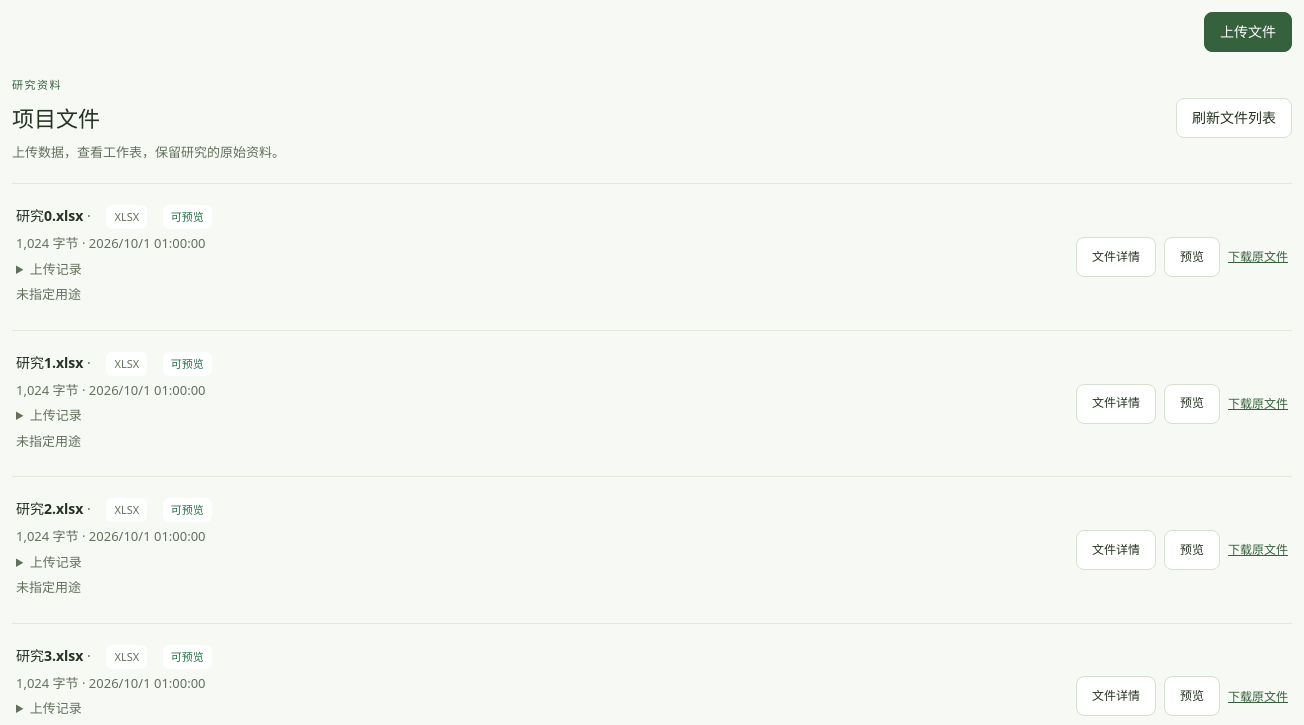
Test: purpose conflict preserves draft and reread adopts current revision before saving
This screenshot has width=1304, height=725.
Click the 1st button "文件详情": {"x": 1116, "y": 257} [1076,237,1156,277]
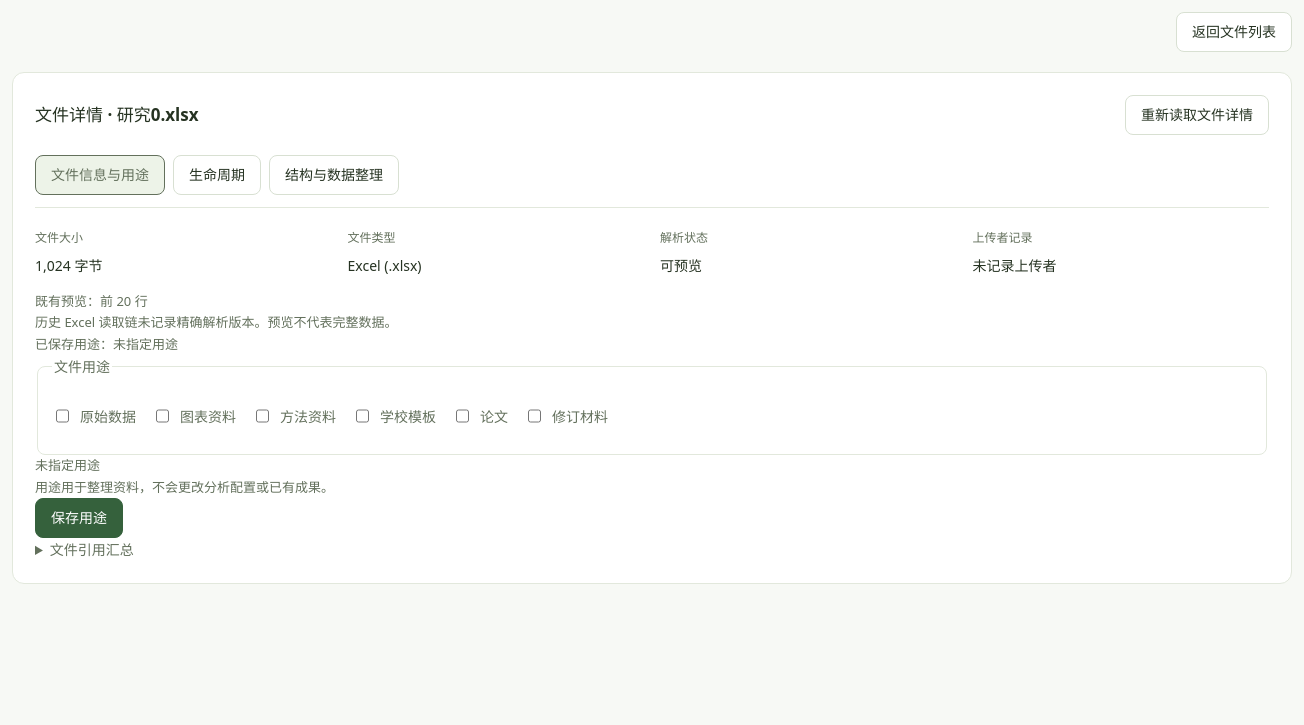
Click the checkbox labelled "原始数据": {"x": 62, "y": 416} [56,395,69,437]
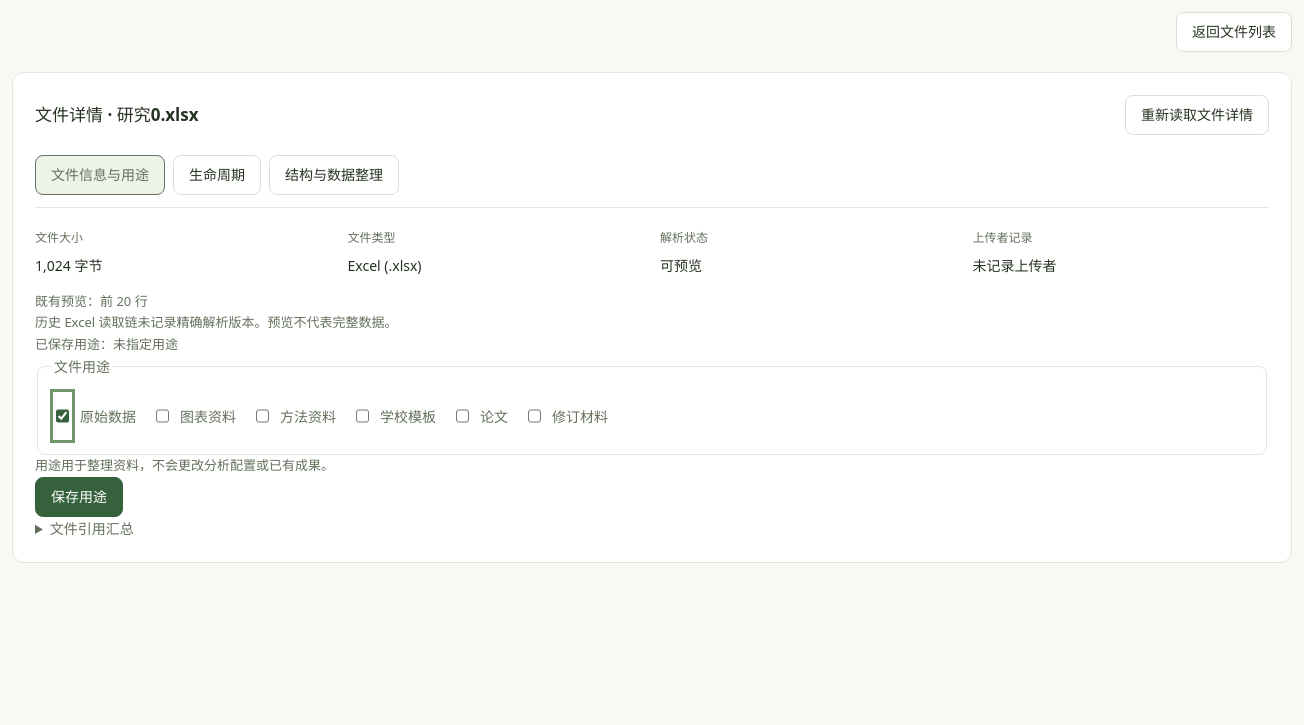
Click the button "保存用途": {"x": 79, "y": 497} [35,477,123,517]
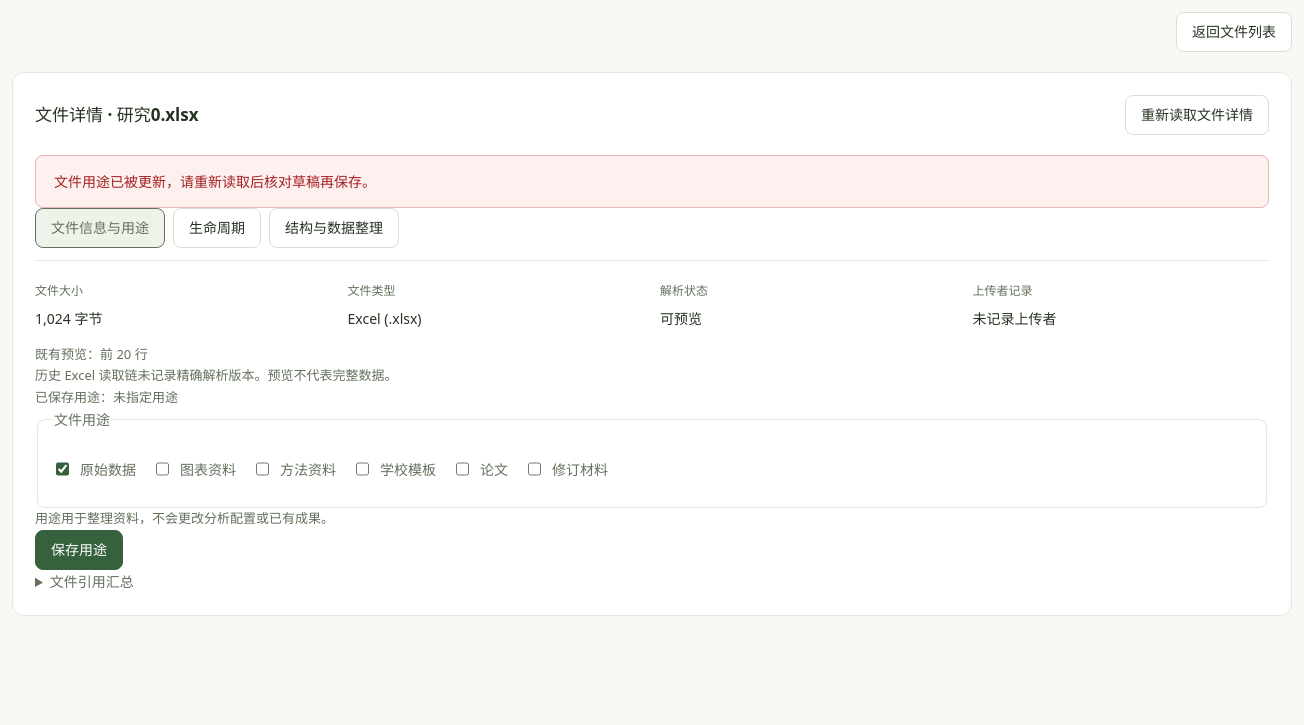
Expected: the checkbox labelled "原始数据" is checked, [56,448,69,490]
Expected: the message shows "用途已被更新", [54,172,376,191]
Click the button "重新读取文件详情": {"x": 1197, "y": 115} [1125,95,1269,135]
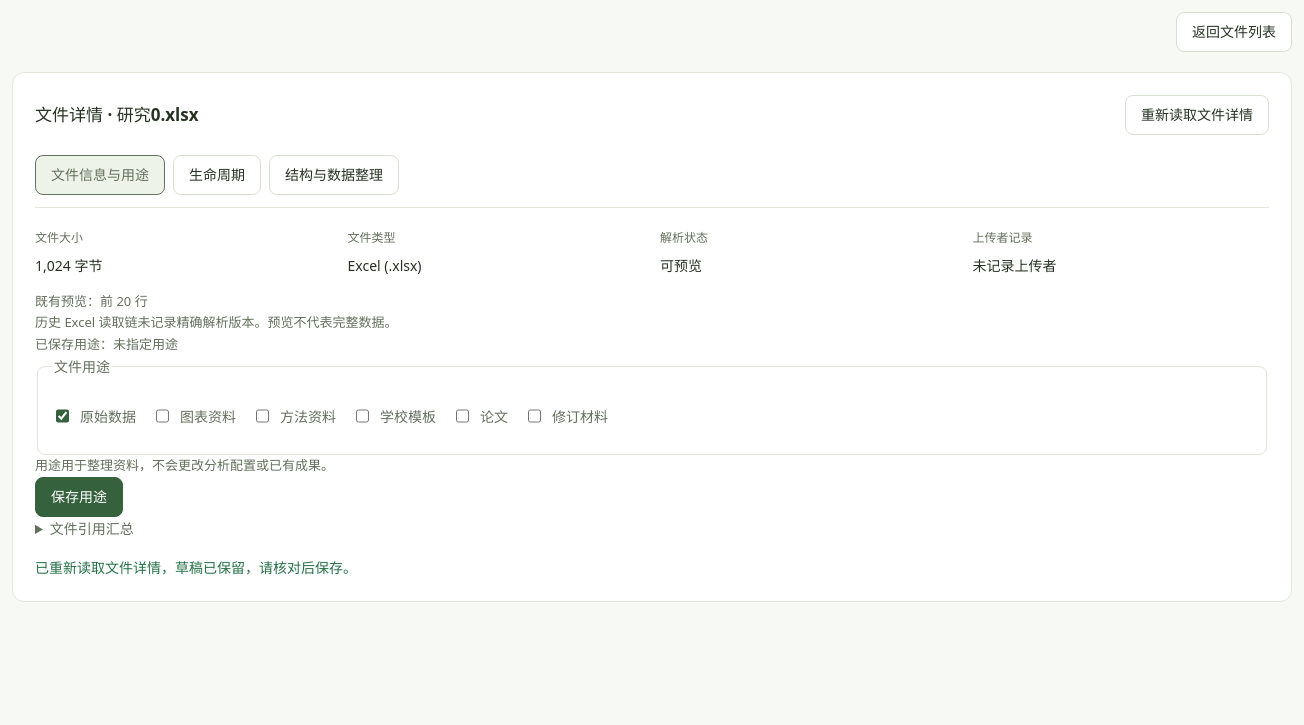
Expected: the checkbox labelled "原始数据" is checked, [56,395,69,437]
Click the button "保存用途": {"x": 79, "y": 497} [35,477,123,517]
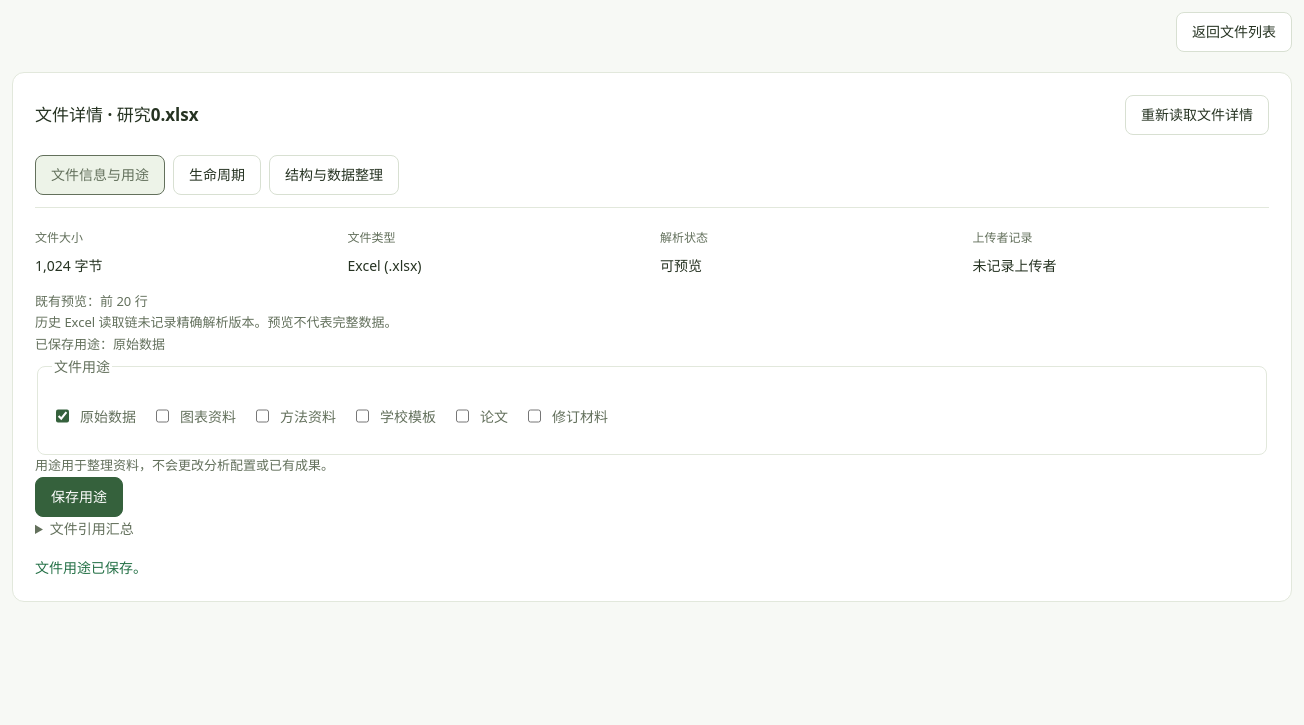
Expected: the text "文件用途已保存。" is shown, [35,558,147,577]
